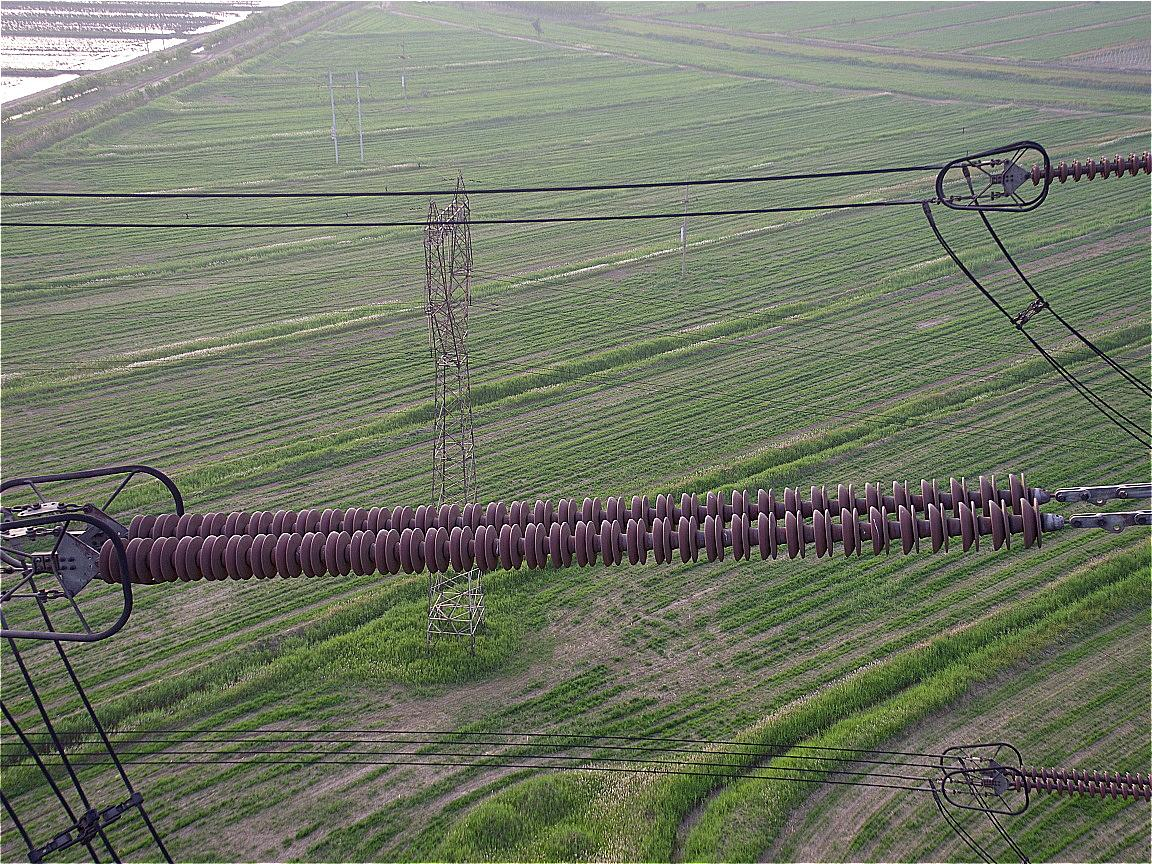insultor2: (98, 473, 1044, 584)
